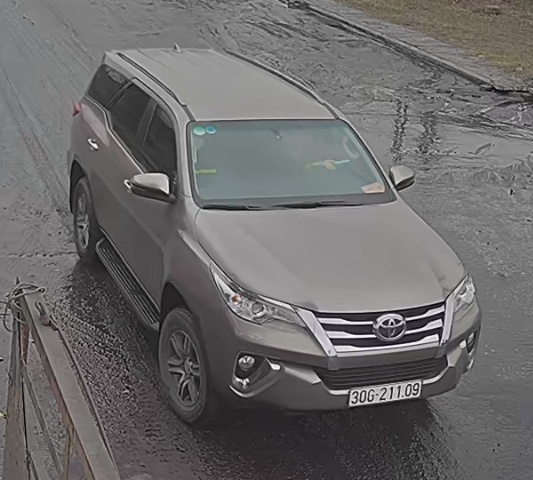vehicle plate: (347, 376, 427, 407)
